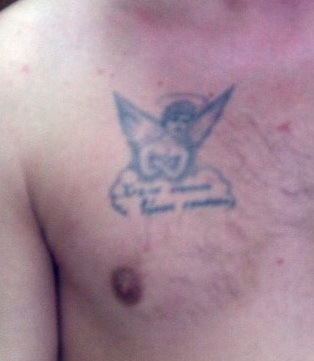tatu1_angel: (109, 81, 235, 179)
